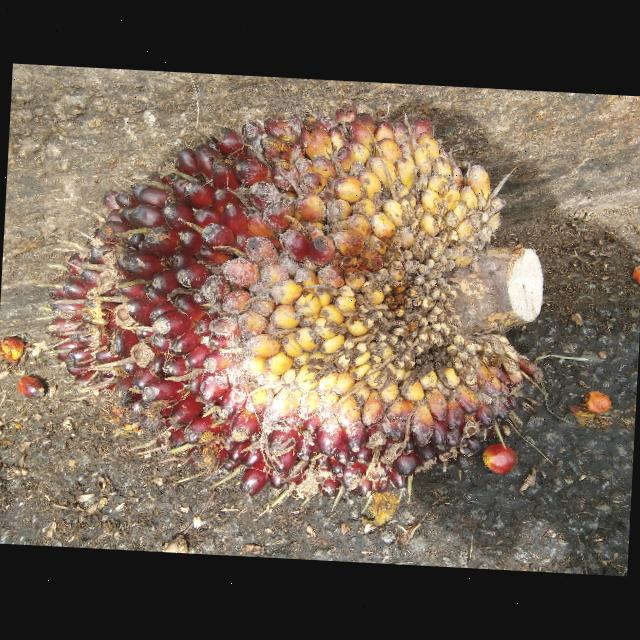Ripe: (53, 112, 524, 497)
